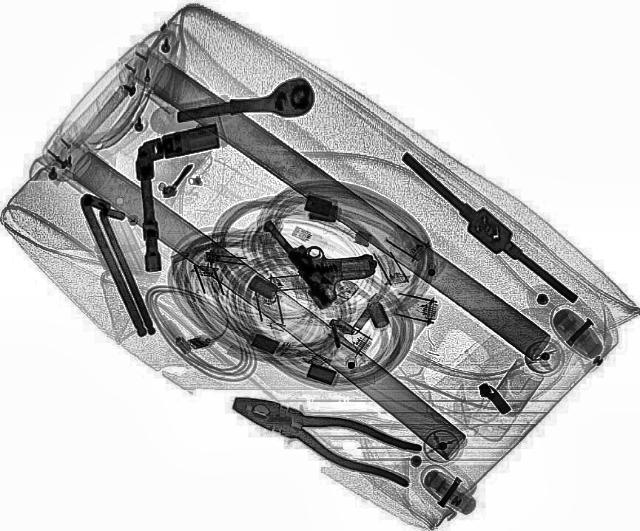Gun: (261, 195, 389, 309)
Pliers: (218, 382, 432, 488)
